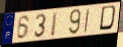3: (33, 12, 48, 38)
6: (15, 15, 31, 40)
9: (68, 8, 83, 35)
D: (99, 4, 119, 32)
I: (49, 11, 59, 38), (83, 8, 91, 34)
